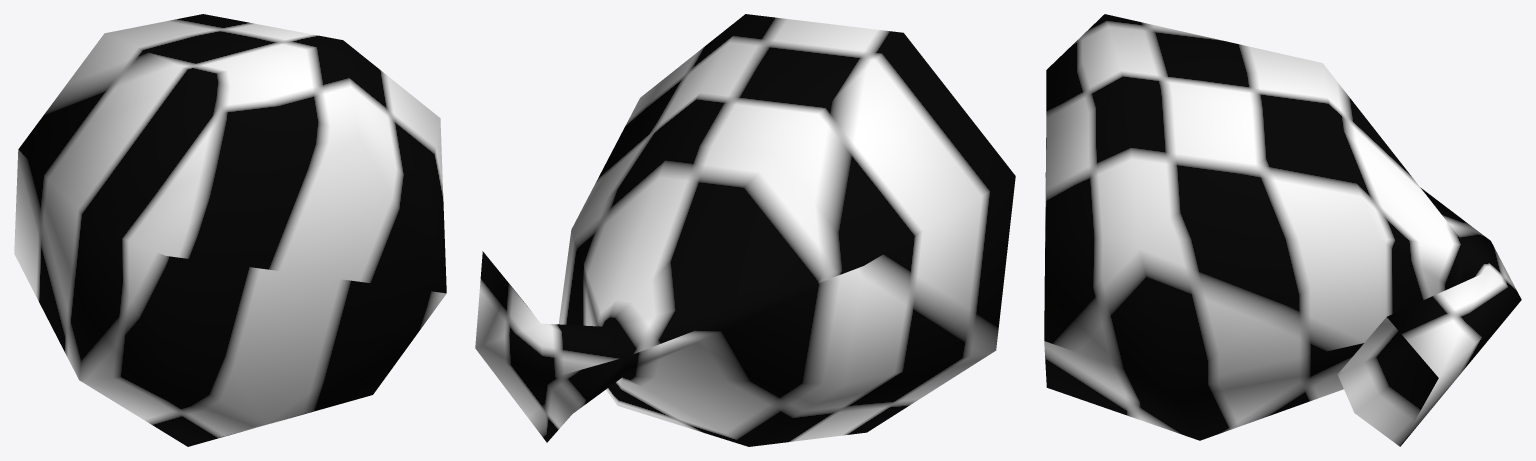
Rendered from initqu36.dae.
3 views of the same model, side by side, from view 1: azimuth 30°, elevation 25°; view 2: azimuth 150°, elevation 25°; view 3: azimuth 270°, elevation 25° (orthographic). The views are drawn at different scales.
Parts seen in each view (by area): view 1: item; view 2: item; view 3: item.
Part boxes in pixels (left/top/right/bottom): item: left=14, top=14, right=446, bottom=446; item: left=475, top=14, right=1015, bottom=446; item: left=1044, top=14, right=1521, bottom=446.
Bounding box in the file's own units: 1.34 × 1.49 × 1.27.
1 material, 1 textured.
